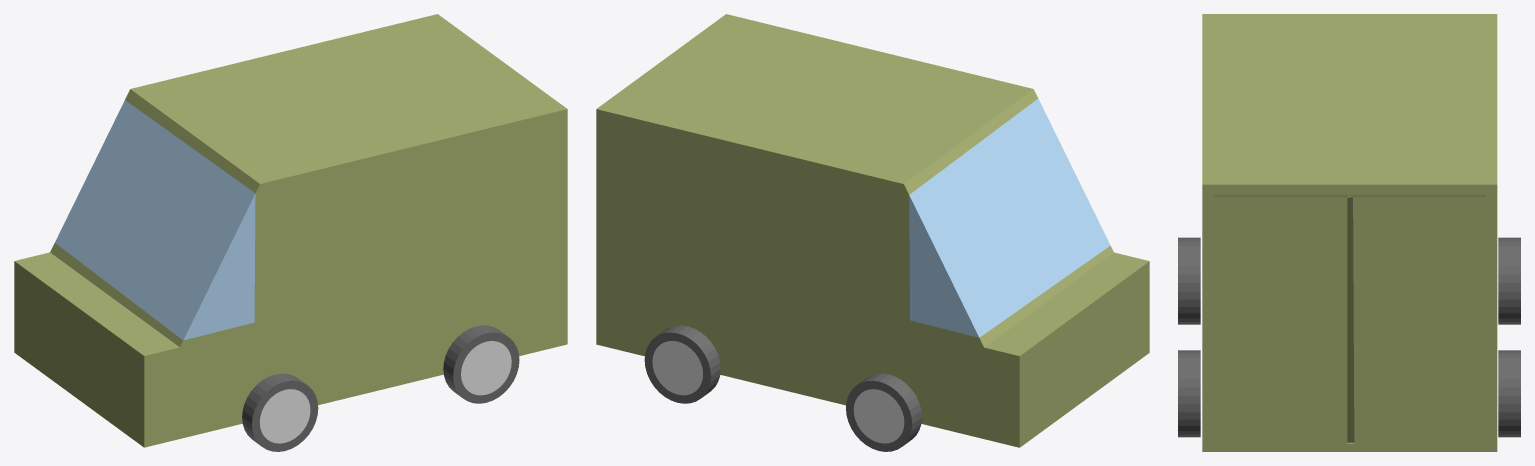
Rendered from shipping_truck.fbx.
The picture shows the model from 3 angles, left to right: view 1: azimuth 30°, elevation 25°; view 2: azimuth 150°, elevation 25°; view 3: azimuth 270°, elevation 25°; orthographic projection. The views are drawn at different scales.
Visible parts, largest first — view 1: Cube.002, Cube.001; view 2: Cube.002, Cube.001; view 3: Cube.002, Cube.001.
Part boxes in pixels (x1,y1,x2,y2): Cube.002: (14, 14, 567, 447); Cube.001: (242, 325, 519, 451); Cube.002: (596, 14, 1149, 447); Cube.001: (644, 325, 921, 451); Cube.002: (1202, 14, 1497, 451); Cube.001: (1178, 237, 1520, 437).
Bounding box in the file's own units: 664 × 391 × 406.
